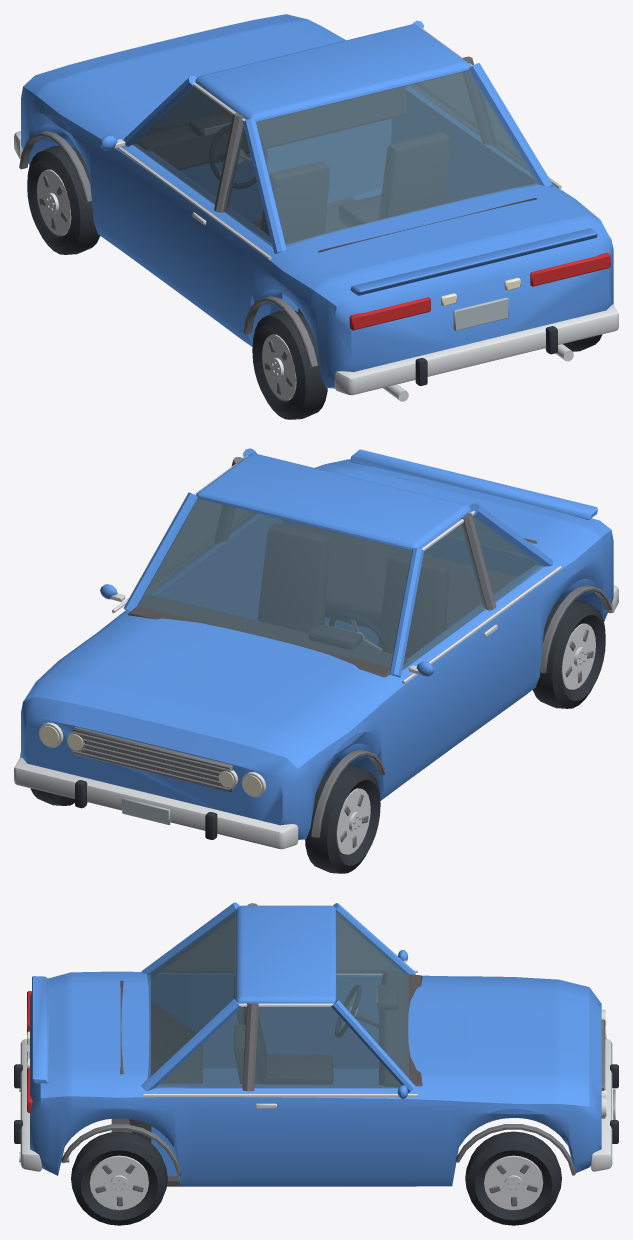
File: StreetClassic.fbx
The picture shows the model from 3 angles, top to bottom: view 1: azimuth 30°, elevation 25°; view 2: azimuth 150°, elevation 25°; view 3: azimuth 270°, elevation 25°; orthographic projection. The views are drawn at different scales.
Parts seen in each view (by area): view 1: Body__paint, Body__glass, Body__interior, Body__chrome, Body__engine, WheelRL__rubber, WheelFL__rubber, Body__tail, WheelFL__chrome, WheelRL__chrome, Body__metal, Body__rubber; view 2: Body__paint, Body__glass, Body__interior, Body__chrome, Body__engine, WheelFL__rubber, WheelRL__rubber, WheelFL__chrome, WheelRL__chrome, Body__lamp, Body__metal, Body__rubber; view 3: Body__paint, Body__glass, Body__interior, WheelFR__rubber, WheelRR__rubber, Body__chrome, Body__engine, WheelFR__chrome, WheelRR__chrome, Body__rubber.
Boxes of the visible parts, bbox=[...] form: Body__paint: bbox=[21, 14, 613, 388]; Body__glass: bbox=[131, 70, 539, 246]; Body__interior: bbox=[137, 85, 537, 315]; Body__chrome: bbox=[14, 27, 618, 401]; Body__engine: bbox=[19, 56, 492, 367]; WheelRL__rubber: bbox=[252, 310, 327, 419]; WheelFL__rubber: bbox=[27, 145, 99, 254]; Body__tail: bbox=[349, 252, 610, 330]; WheelFL__chrome: bbox=[37, 169, 71, 235]; WheelRL__chrome: bbox=[262, 334, 296, 400]; Body__metal: bbox=[204, 123, 508, 330]; Body__rubber: bbox=[415, 326, 557, 385]; Body__paint: bbox=[21, 448, 613, 839]; Body__glass: bbox=[137, 498, 543, 670]; Body__interior: bbox=[128, 524, 537, 677]; Body__chrome: bbox=[14, 455, 618, 849]; Body__engine: bbox=[20, 457, 612, 838]; WheelFL__rubber: bbox=[305, 764, 380, 873]; WheelRL__rubber: bbox=[533, 600, 605, 708]; WheelFL__chrome: bbox=[336, 788, 370, 854]; WheelRL__chrome: bbox=[561, 623, 595, 689]; Body__lamp: bbox=[40, 726, 261, 795]; Body__metal: bbox=[122, 798, 170, 824]; Body__rubber: bbox=[75, 780, 217, 839]; Body__paint: bbox=[30, 902, 601, 1186]; Body__glass: bbox=[147, 910, 408, 1088]; Body__interior: bbox=[111, 972, 422, 1186]; WheelFR__rubber: bbox=[465, 1131, 561, 1225]; WheelRR__rubber: bbox=[71, 1131, 167, 1225]; Body__chrome: bbox=[19, 960, 612, 1171]; Body__engine: bbox=[61, 903, 605, 1175]; WheelFR__chrome: bbox=[484, 1155, 543, 1210]; WheelRR__chrome: bbox=[89, 1155, 148, 1210]; Body__rubber: bbox=[14, 1064, 618, 1143].
Bounding box in the file's own units: 2.21 × 1.54 × 3.99.
